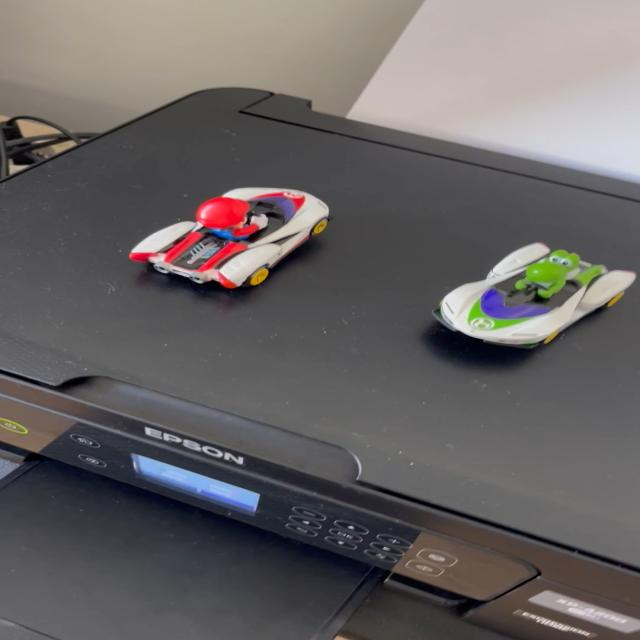mario: (109, 186, 343, 300)
yoshi: (423, 227, 640, 358)
